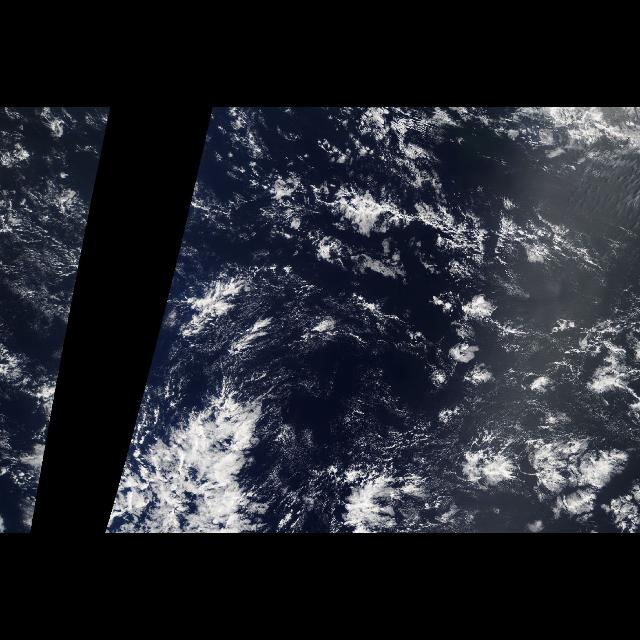Fish: (255, 168, 630, 308)
